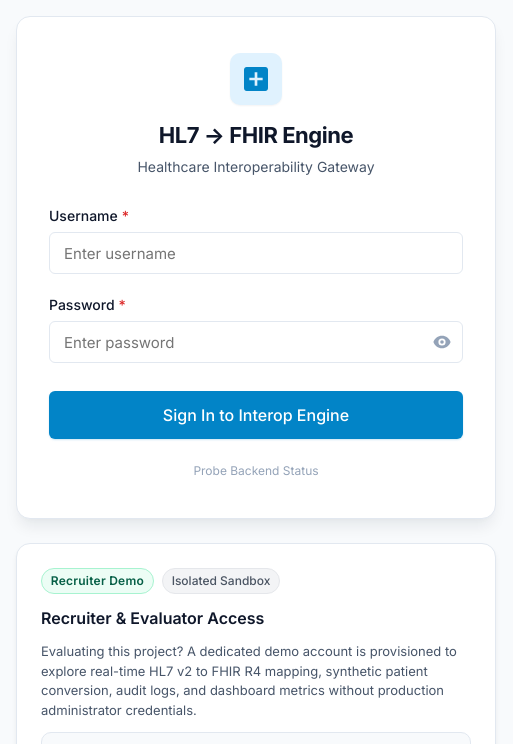
Test case: LoginPage › submits credentials when valid and handles login error
Type "doctor_smith" into the field labelled "Username *".
click(256, 253); type("doctor_smith")  # box [49,232,463,274]
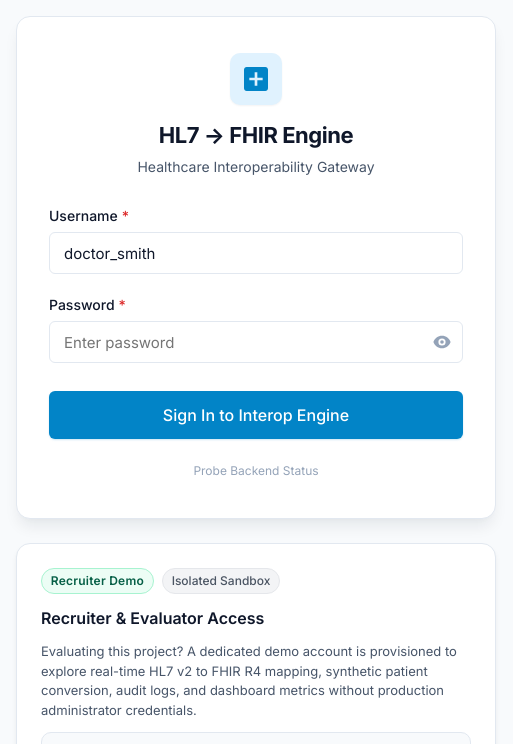
Type "Secret123!" into the password field labelled "Password *".
click(256, 342); type("Secret123!")  # box [49,321,463,363]
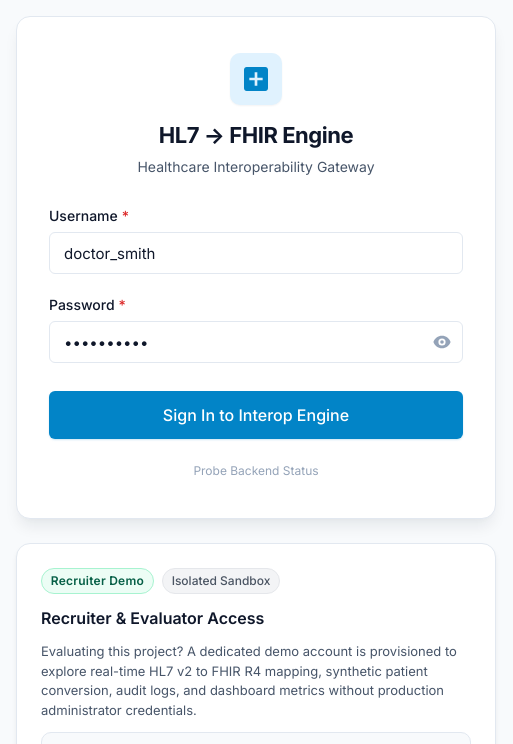
Click the button "Sign In to Interop Engine".
click(256, 415)  # box [49,391,463,439]
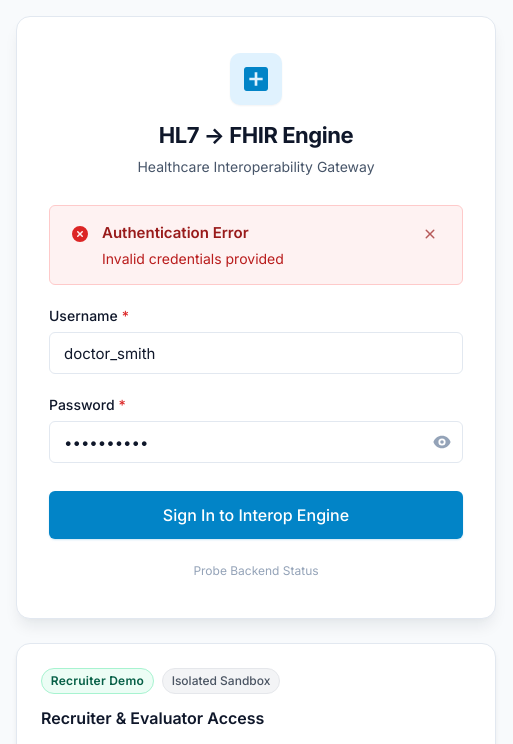
Expected: the text "Invalid credentials provided" is shown, [102,250,284,266]
